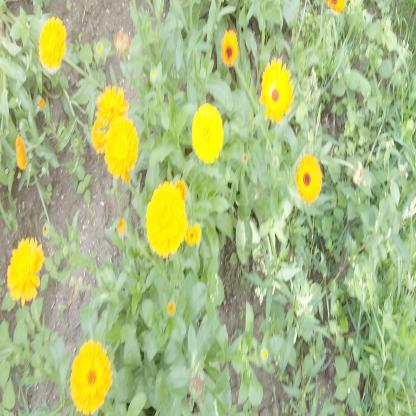marigold: (71, 341, 110, 412), (148, 186, 185, 253), (9, 238, 43, 302), (192, 102, 224, 165), (106, 120, 137, 181), (261, 59, 291, 122), (39, 20, 66, 68), (297, 154, 321, 202), (99, 86, 128, 124)
